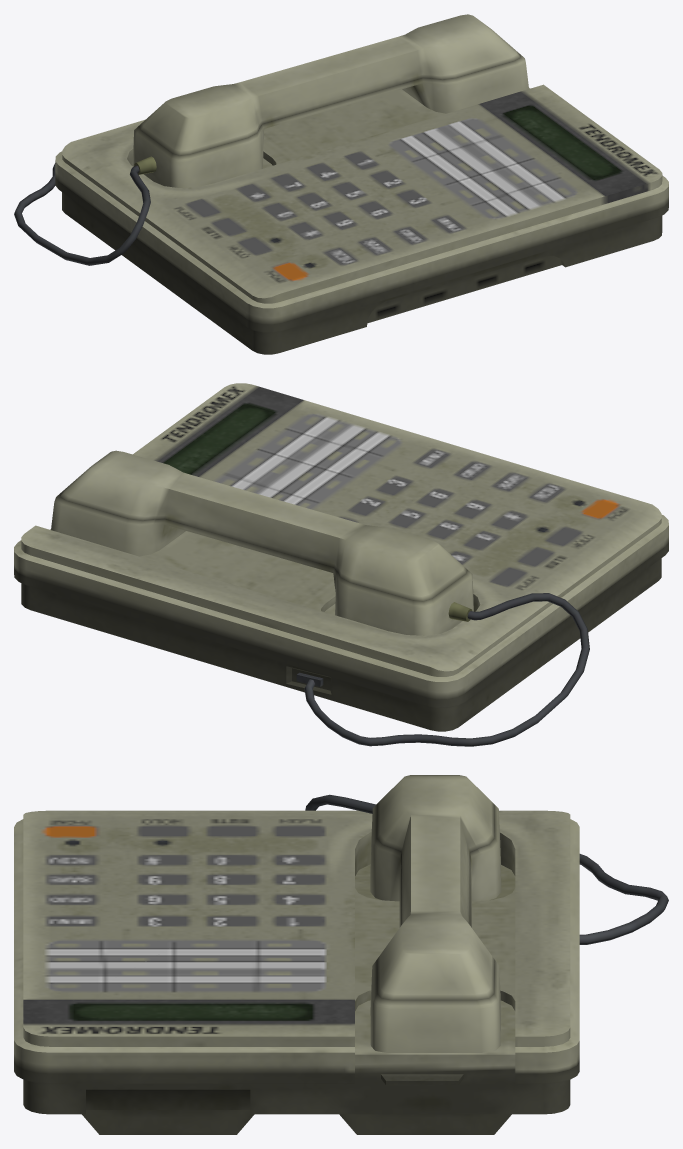
Rendered from HH_Telephone_01.fbx.
3 views of the same model, one above another, from view 1: azimuth 30°, elevation 25°; view 2: azimuth 150°, elevation 25°; view 3: azimuth 270°, elevation 25° (orthographic). The views are drawn at different scales.
Visible parts, largest first — view 1: HH_Telephone_01_LOD0; view 2: HH_Telephone_01_LOD0; view 3: HH_Telephone_01_LOD0.
Part boxes in pixels (x1,y1,x2,y2): HH_Telephone_01_LOD0: (14, 14, 668, 354); HH_Telephone_01_LOD0: (14, 383, 668, 746); HH_Telephone_01_LOD0: (14, 775, 668, 1134).
Size of what is drawn, in the model's own units: 27.48 by 7.24 by 25.15.
